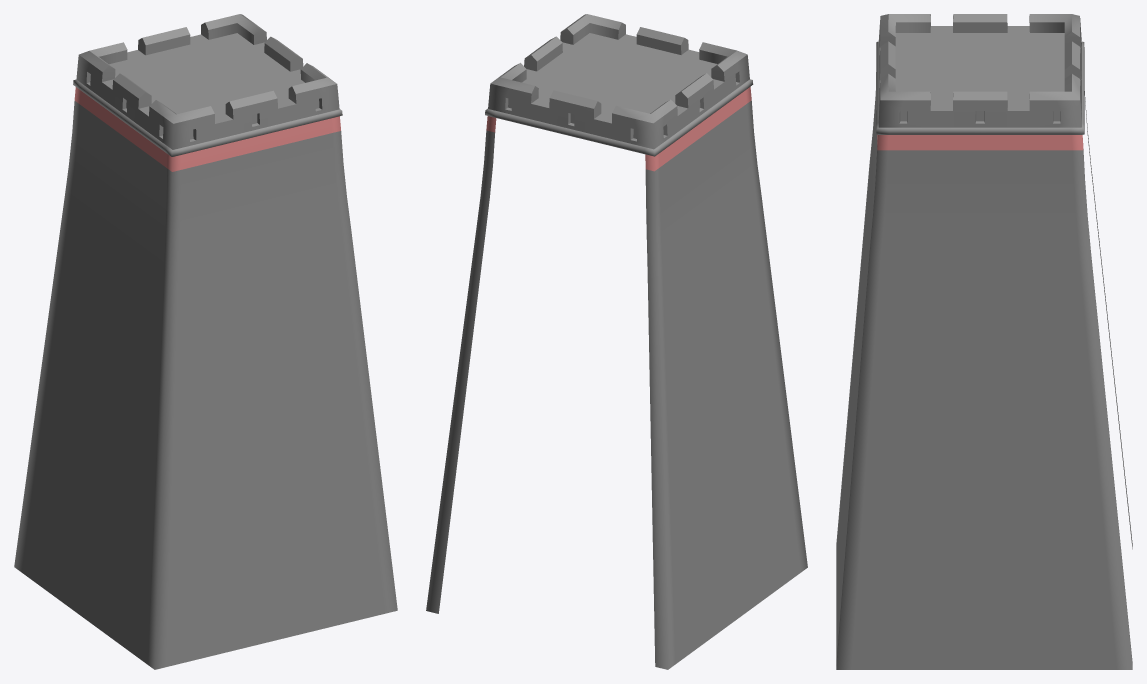
The model's file is CHN_StadiumGuardTower02.gltf.
The picture shows the model from 3 angles, left to right: view 1: azimuth 30°, elevation 25°; view 2: azimuth 150°, elevation 25°; view 3: azimuth 270°, elevation 25°; orthographic projection. The views are drawn at different scales.
Parts seen in each view (by area): view 1: CHN_StadiumGuardTower02; view 2: CHN_StadiumGuardTower02; view 3: CHN_StadiumGuardTower02.
Boxes of the visible parts, x1,y1,x2,y2 form: CHN_StadiumGuardTower02: [14, 14, 397, 669]; CHN_StadiumGuardTower02: [426, 14, 807, 669]; CHN_StadiumGuardTower02: [836, 14, 1132, 669].
Bounding box in the file's own units: 16.05 × 33.2 × 16.08.
